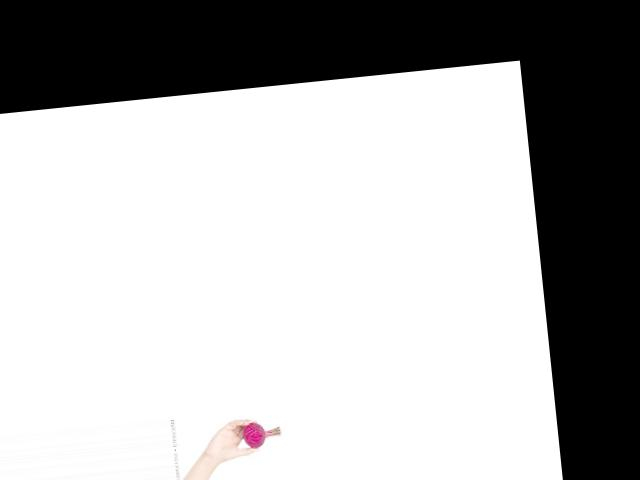beet: (241, 419, 282, 448)
